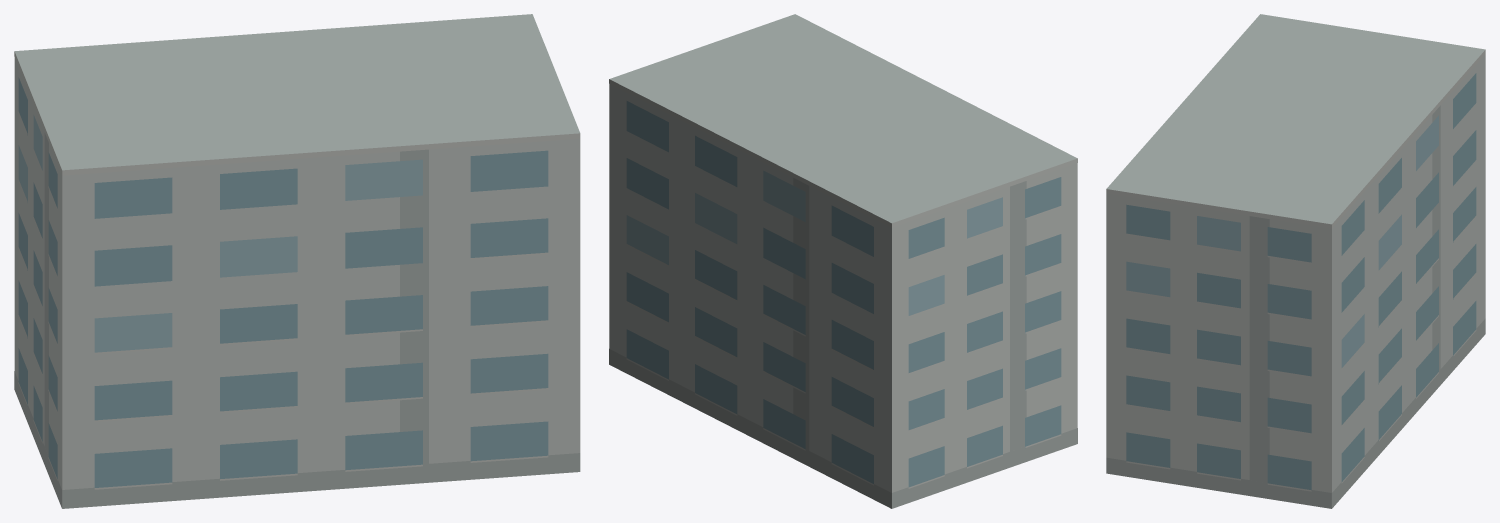
The model's file is residential-8afc5509-b4c0-4273-8e69-86698bebe946.glb.
3 renders of one model, left to right at view 1: azimuth 30°, elevation 25°; view 2: azimuth 150°, elevation 25°; view 3: azimuth 270°, elevation 25°, orthographic. The views are drawn at different scales.
Parts seen in each view (by area): view 1: residential-8afc5509-b4c0-4273-8e69-86698bebe946.tmp; view 2: residential-8afc5509-b4c0-4273-8e69-86698bebe946.tmp; view 3: residential-8afc5509-b4c0-4273-8e69-86698bebe946.tmp.
Boxes of the visible parts, x1=… form: residential-8afc5509-b4c0-4273-8e69-86698bebe946.tmp: x1=14, y1=14, x2=580, y2=508; residential-8afc5509-b4c0-4273-8e69-86698bebe946.tmp: x1=609, y1=14, x2=1077, y2=508; residential-8afc5509-b4c0-4273-8e69-86698bebe946.tmp: x1=1106, y1=14, x2=1485, y2=508.
Bounding box in the file's own units: 24.19 × 15.25 × 18.43.
